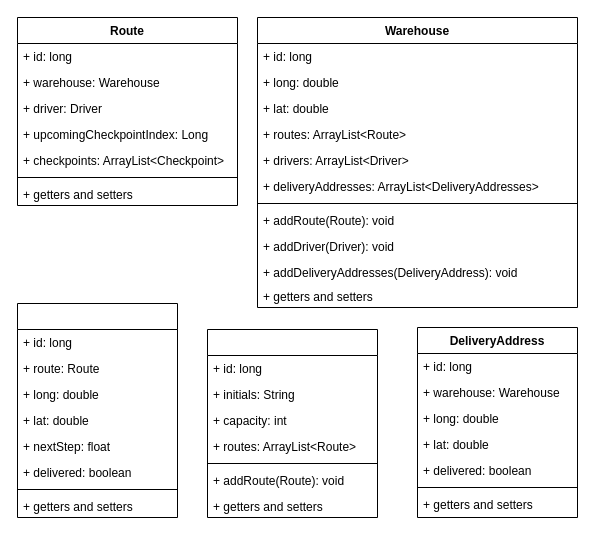
Image size: 595x538. Some labels were removed from this diagram. The box of each missing label's shape, as (x1, y1, x2, y2) in pixels:
Checkpoint: (16, 302, 178, 518)
Driver: (206, 328, 378, 518)
